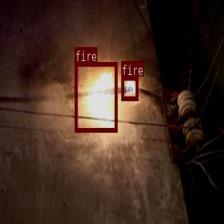fire: (74, 62, 117, 132), (120, 75, 138, 100)
